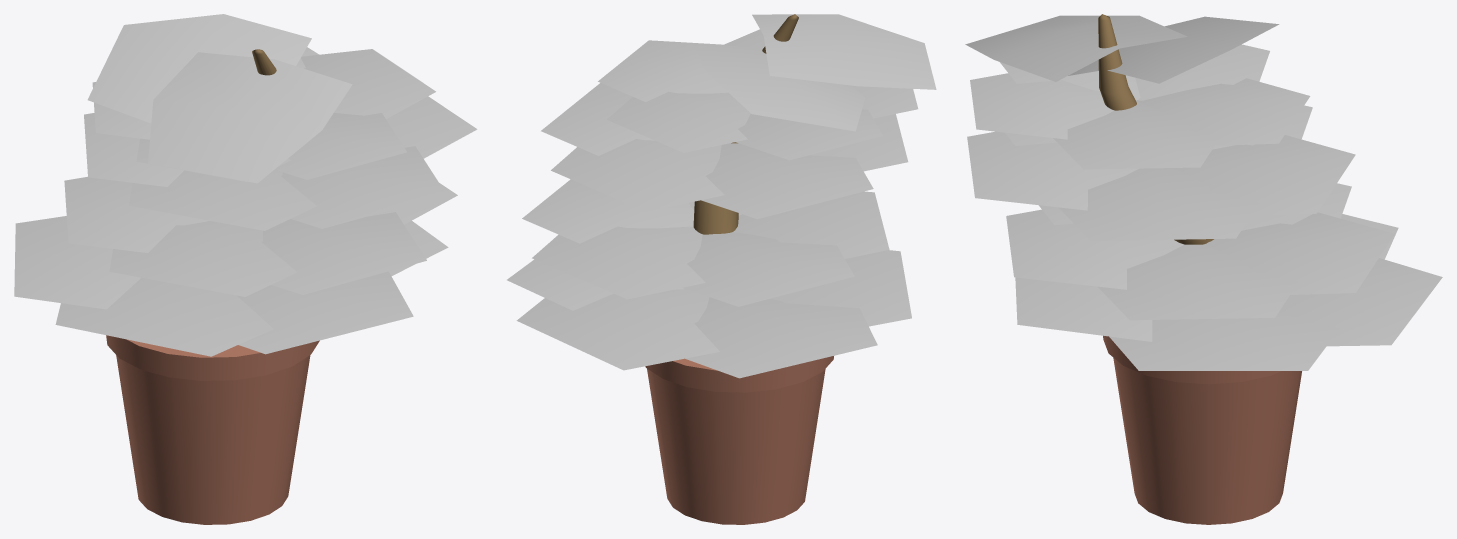
File: Plant.fbx
The picture shows the model from 3 angles, left to right: view 1: azimuth 30°, elevation 25°; view 2: azimuth 150°, elevation 25°; view 3: azimuth 270°, elevation 25°; orthographic projection. The views are drawn at different scales.
Parts seen in each view (by area): view 1: plant; view 2: plant; view 3: plant.
Part boxes in pixels (<box>): plant: <box>14,14,477,524</box>; plant: <box>507,14,936,524</box>; plant: <box>965,14,1442,524</box>.
Bounding box in the file's own units: 26.08 × 31.79 × 28.97.
